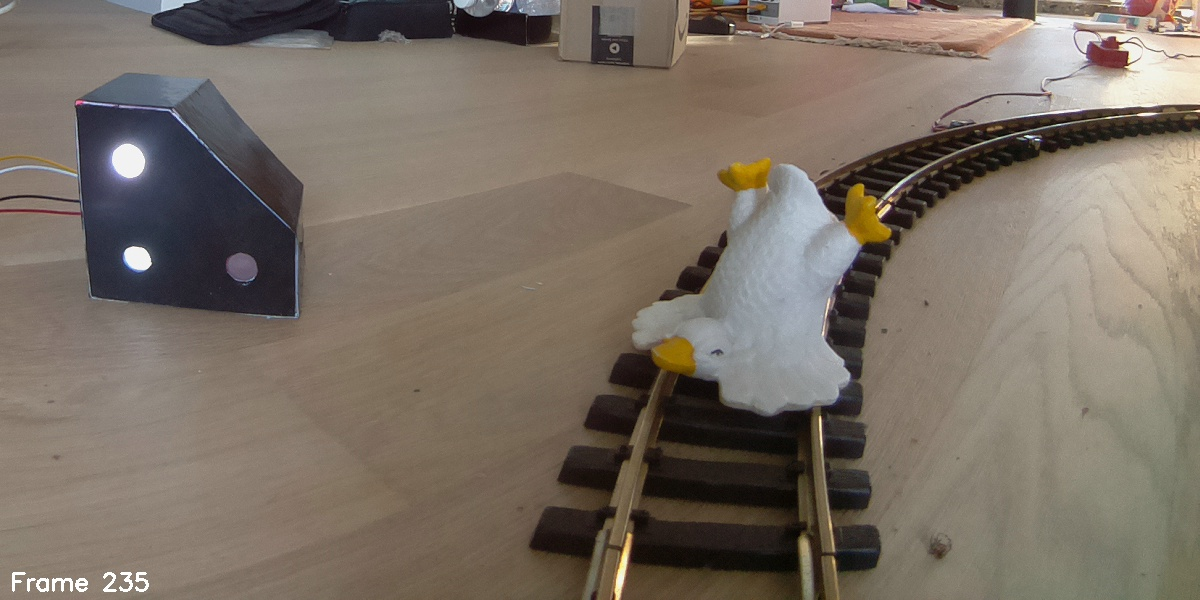Ente: (627, 153, 896, 419)
Fahrt: (73, 70, 300, 320)
